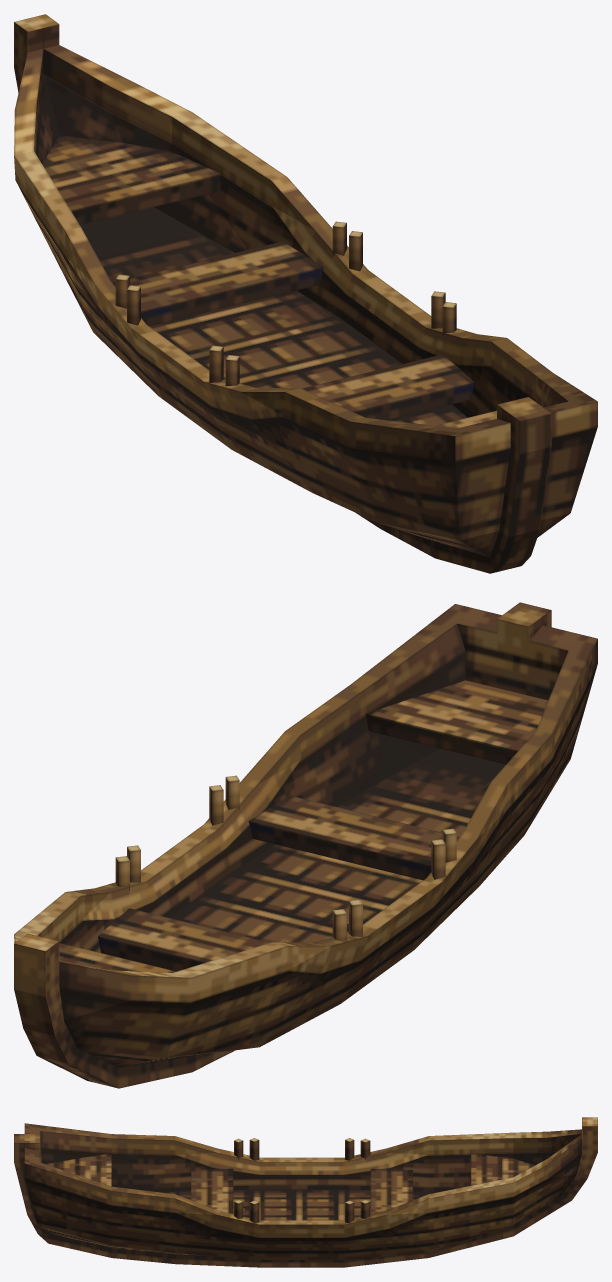
The model's file is ObjMD_Boat_A.FBX.
3 views of the same model, one above another, from view 1: azimuth 30°, elevation 25°; view 2: azimuth 150°, elevation 25°; view 3: azimuth 270°, elevation 25° (orthographic). The views are drawn at different scales.
Parts seen in each view (by area): view 1: ObjMD_Boat_A; view 2: ObjMD_Boat_A; view 3: ObjMD_Boat_A.
Part boxes in pixels (box(x1,y1,x2,y2)): ObjMD_Boat_A: box(14, 14, 597, 573); ObjMD_Boat_A: box(14, 602, 597, 1088); ObjMD_Boat_A: box(14, 1117, 597, 1267).
Size of the model in its own units: 188 by 184 by 691.
